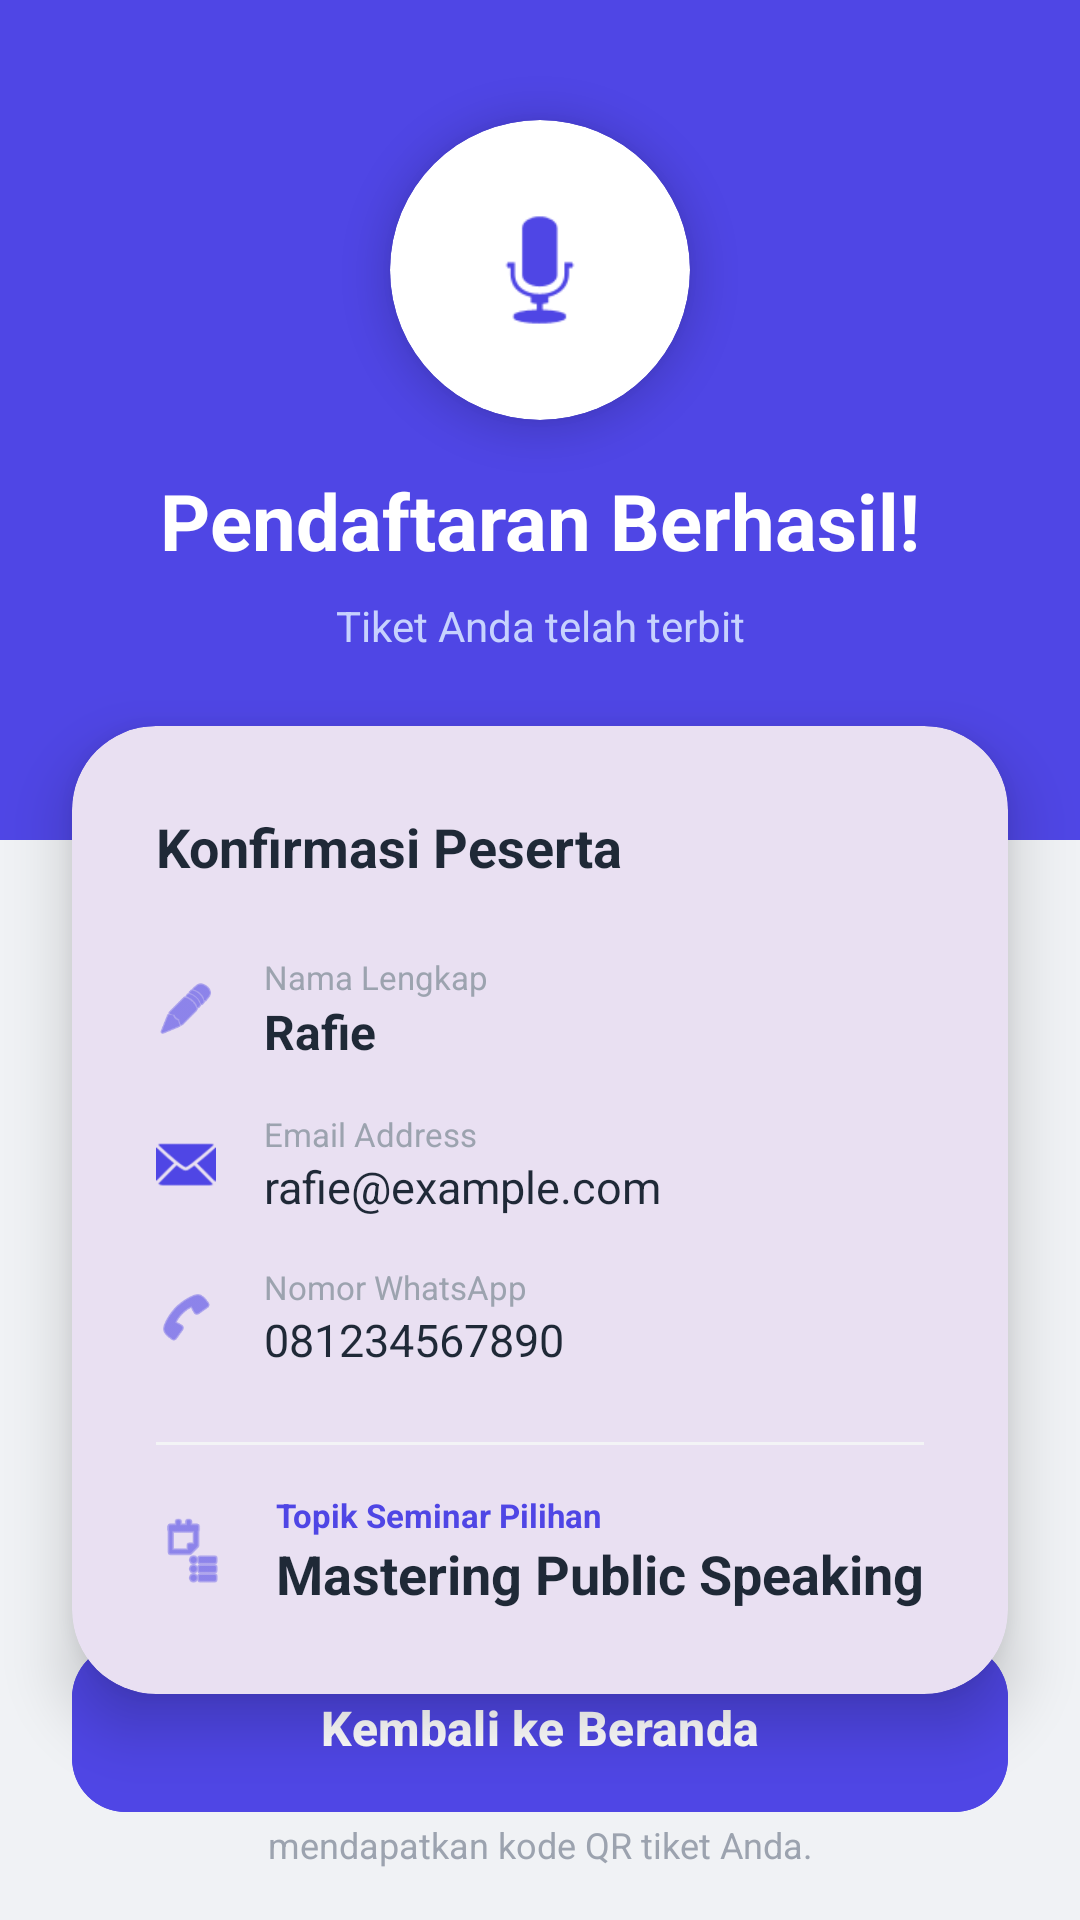

Where to tap for icons on this 1080 x 1920 app screen, as (x=x, y=y):
agenda: (x=192, y=1551)
call: (x=186, y=1317)
edit: (x=186, y=1008)
speak now: (x=540, y=270)
